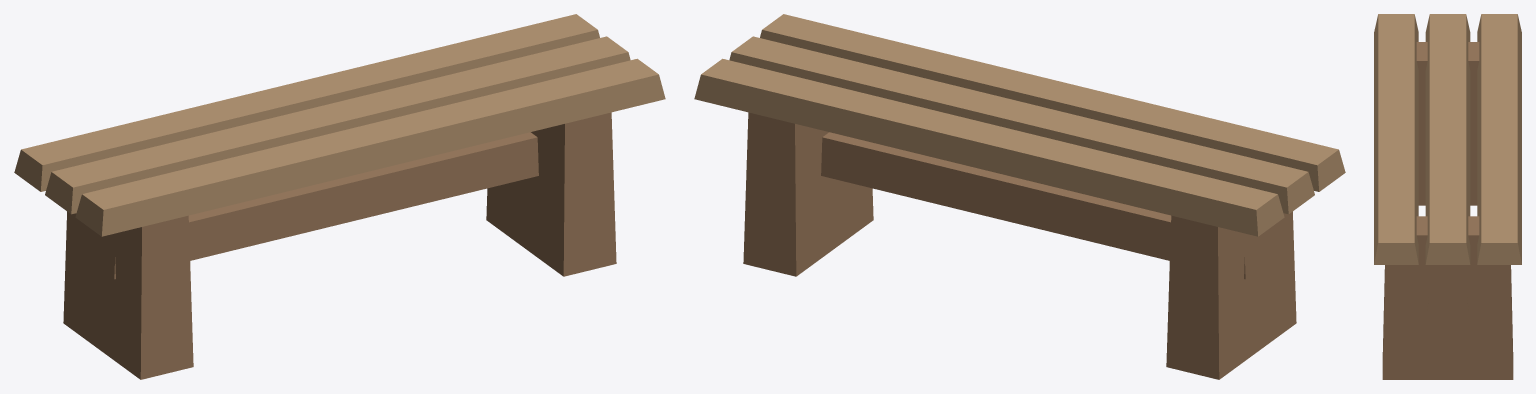
The model's file is garden-bench-high.glb.
The picture shows the model from 3 angles, left to right: view 1: azimuth 30°, elevation 25°; view 2: azimuth 150°, elevation 25°; view 3: azimuth 270°, elevation 25°; orthographic projection. The views are drawn at different scales.
Parts seen in each view (by area): view 1: garden-bench; view 2: garden-bench; view 3: garden-bench.
Boxes of the visible parts, <box> form: garden-bench: <box>14,14,665,379</box>; garden-bench: <box>694,14,1345,379</box>; garden-bench: <box>1374,14,1521,379</box>.
Size of the model in its own units: 1.6 by 0.4925 by 0.43.
